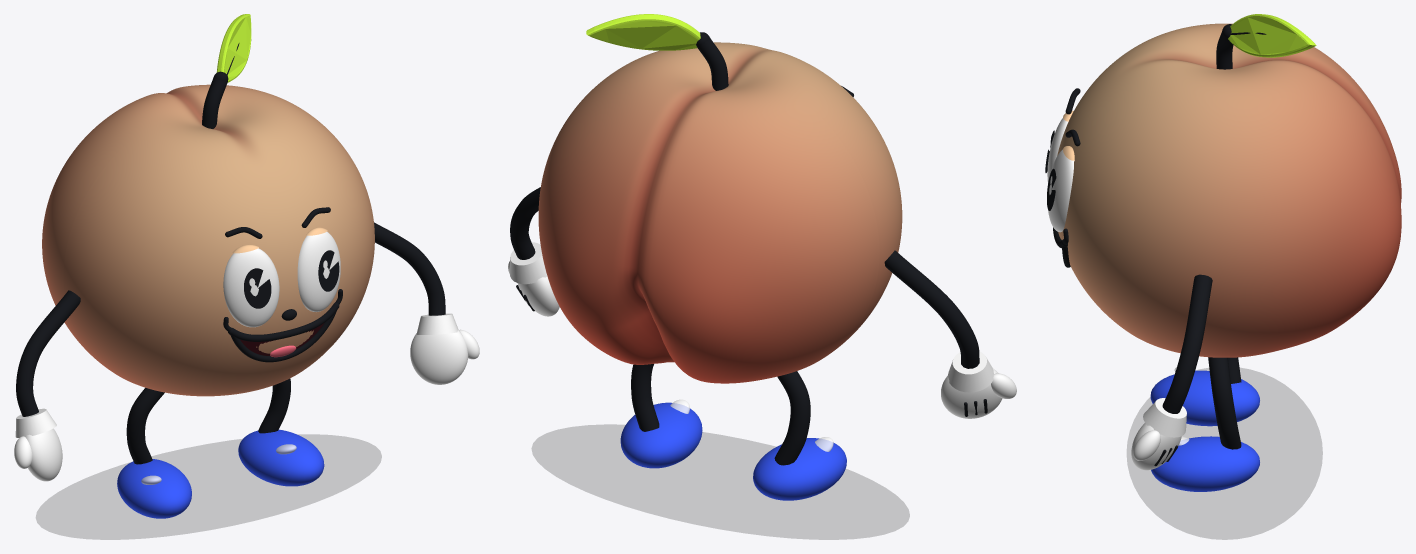
Rendered from durazno-popowash-cara-2.glb.
The picture shows the model from 3 angles, left to right: view 1: azimuth 30°, elevation 25°; view 2: azimuth 150°, elevation 25°; view 3: azimuth 270°, elevation 25°; orthographic projection. The views are drawn at different scales.
Size of the model in its own units: 3.18 by 2.85 by 1.99.
